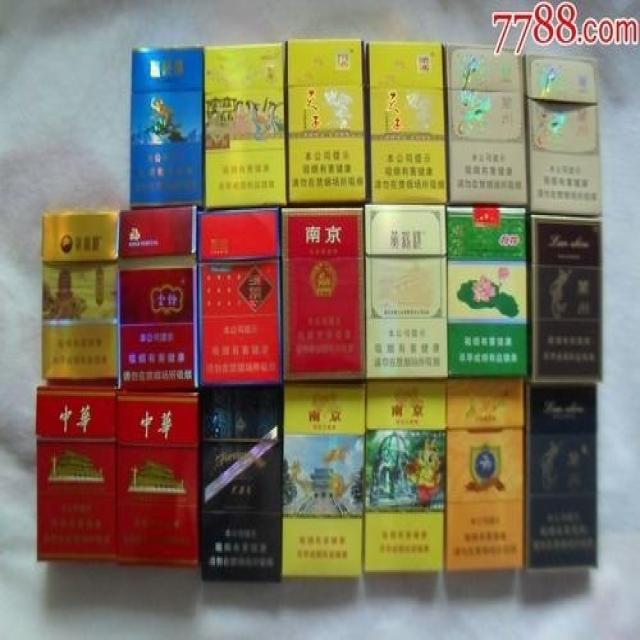box: (198, 384, 284, 582), (282, 379, 365, 580), (364, 381, 447, 575), (445, 379, 526, 573), (279, 203, 366, 381), (198, 208, 282, 387), (37, 379, 118, 563), (118, 207, 198, 393), (115, 393, 200, 568), (445, 205, 529, 379), (365, 203, 448, 379), (525, 379, 596, 572), (205, 43, 287, 210), (445, 44, 529, 207), (366, 43, 448, 205), (285, 39, 365, 205), (42, 212, 119, 381), (527, 213, 603, 382), (524, 55, 603, 215), (129, 46, 205, 208)
